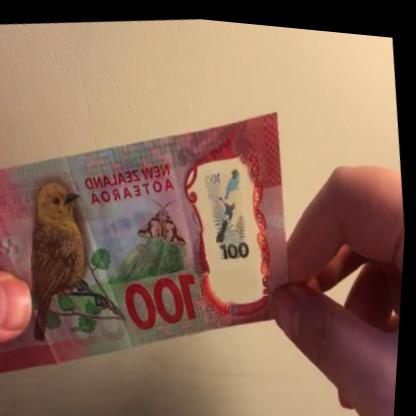100B: (198, 152, 265, 289)
